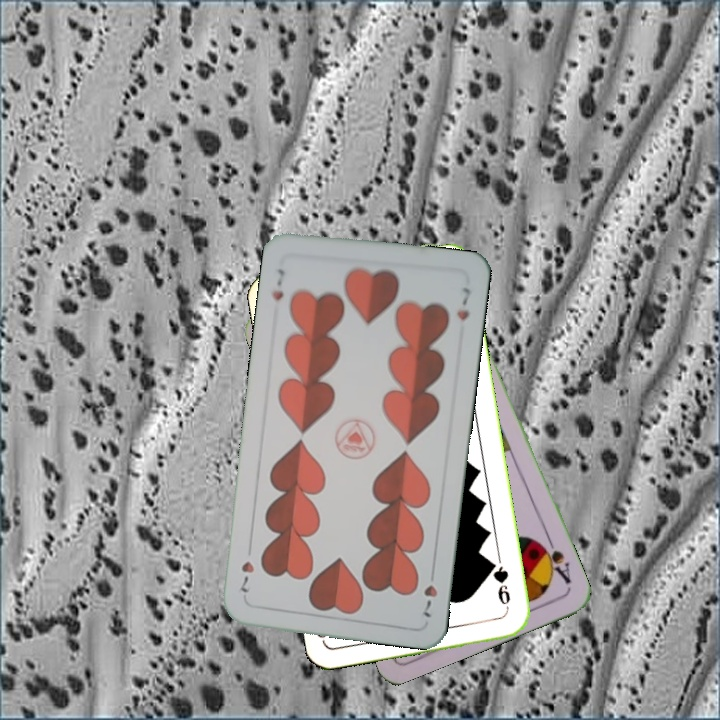G9: (487, 557, 513, 613)
H7: (418, 564, 440, 620), (267, 264, 288, 304)
SA: (535, 533, 574, 586)
